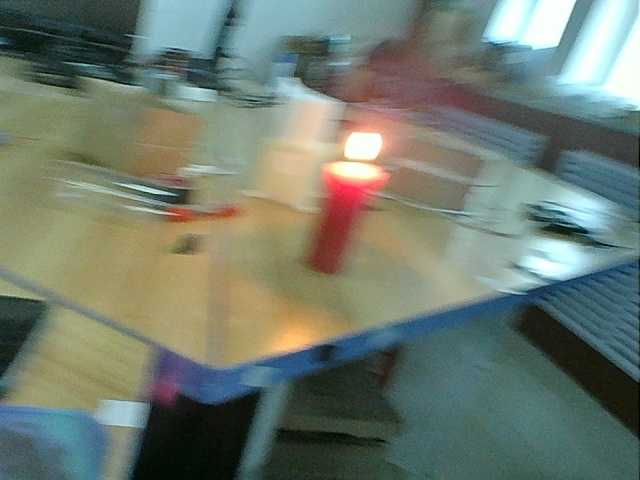candle: (309, 163, 375, 278)
fire: (330, 121, 391, 187)
